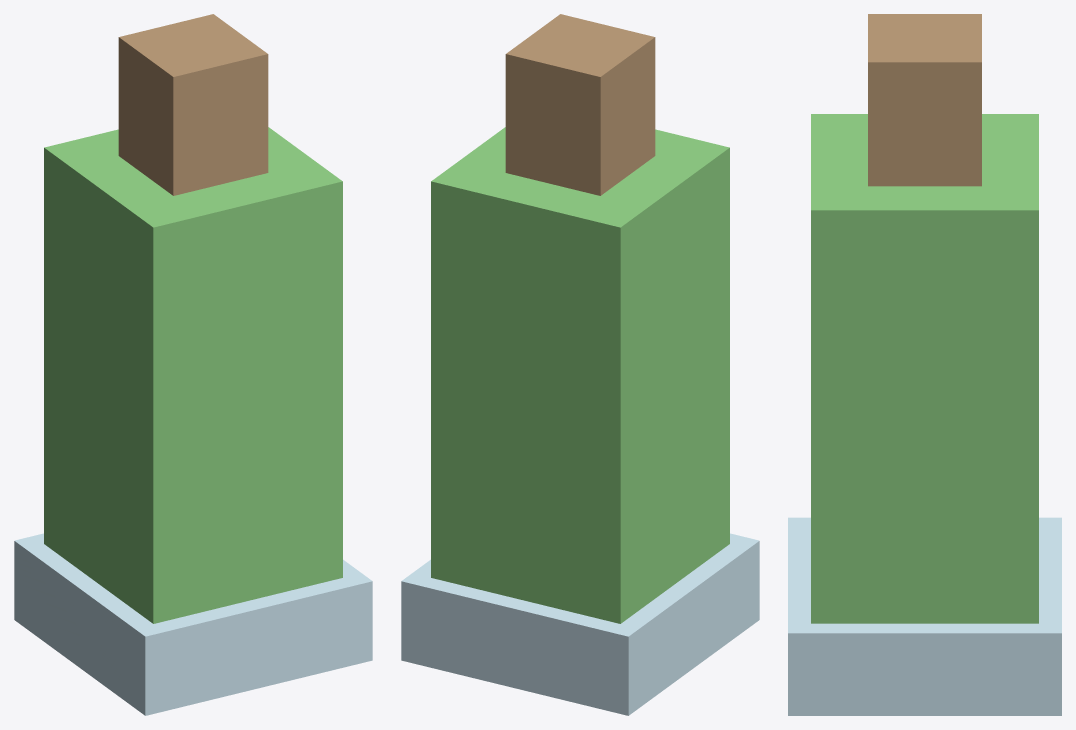
File: Item_Tonic_AMF_Glow_T4.glb
The picture shows the model from 3 angles, left to right: view 1: azimuth 30°, elevation 25°; view 2: azimuth 150°, elevation 25°; view 3: azimuth 270°, elevation 25°; orthographic projection. The views are drawn at different scales.
Visible parts, largest first — view 1: Item_Tonic_AMF_Glow_T4; view 2: Item_Tonic_AMF_Glow_T4; view 3: Item_Tonic_AMF_Glow_T4.
Part boxes in pixels (box(x1,y1,x2,y2)): Item_Tonic_AMF_Glow_T4: box(14, 14, 372, 715); Item_Tonic_AMF_Glow_T4: box(401, 14, 759, 715); Item_Tonic_AMF_Glow_T4: box(788, 14, 1061, 715).
Size of the model in its own units: 0.12 by 0.3 by 0.12.
